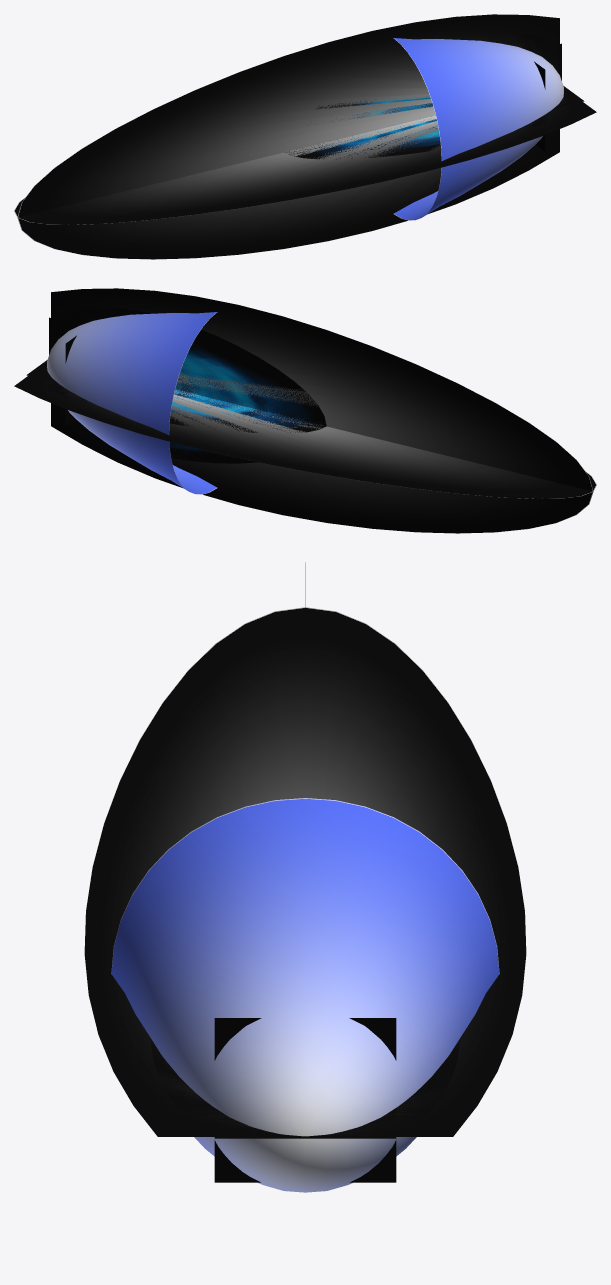
The model's file is Akaza_Fist1_2.fbx.
The picture shows the model from 3 angles, top to bottom: view 1: azimuth 30°, elevation 25°; view 2: azimuth 150°, elevation 25°; view 3: azimuth 270°, elevation 25°; orthographic projection. The views are drawn at different scales.
Visible parts, largest first — view 1: SM_e_Plc_P1012_Fist001_02; view 2: SM_e_Plc_P1012_Fist001_02; view 3: SM_e_Plc_P1012_Fist001_02.
Boxes of the visible parts, bbox=[...] form: SM_e_Plc_P1012_Fist001_02: bbox=[14, 14, 596, 259]; SM_e_Plc_P1012_Fist001_02: bbox=[14, 288, 596, 533]; SM_e_Plc_P1012_Fist001_02: bbox=[84, 562, 526, 1192].
Bounding box in the file's own units: 831 × 292 × 292.
4 materials, 4 textured.
